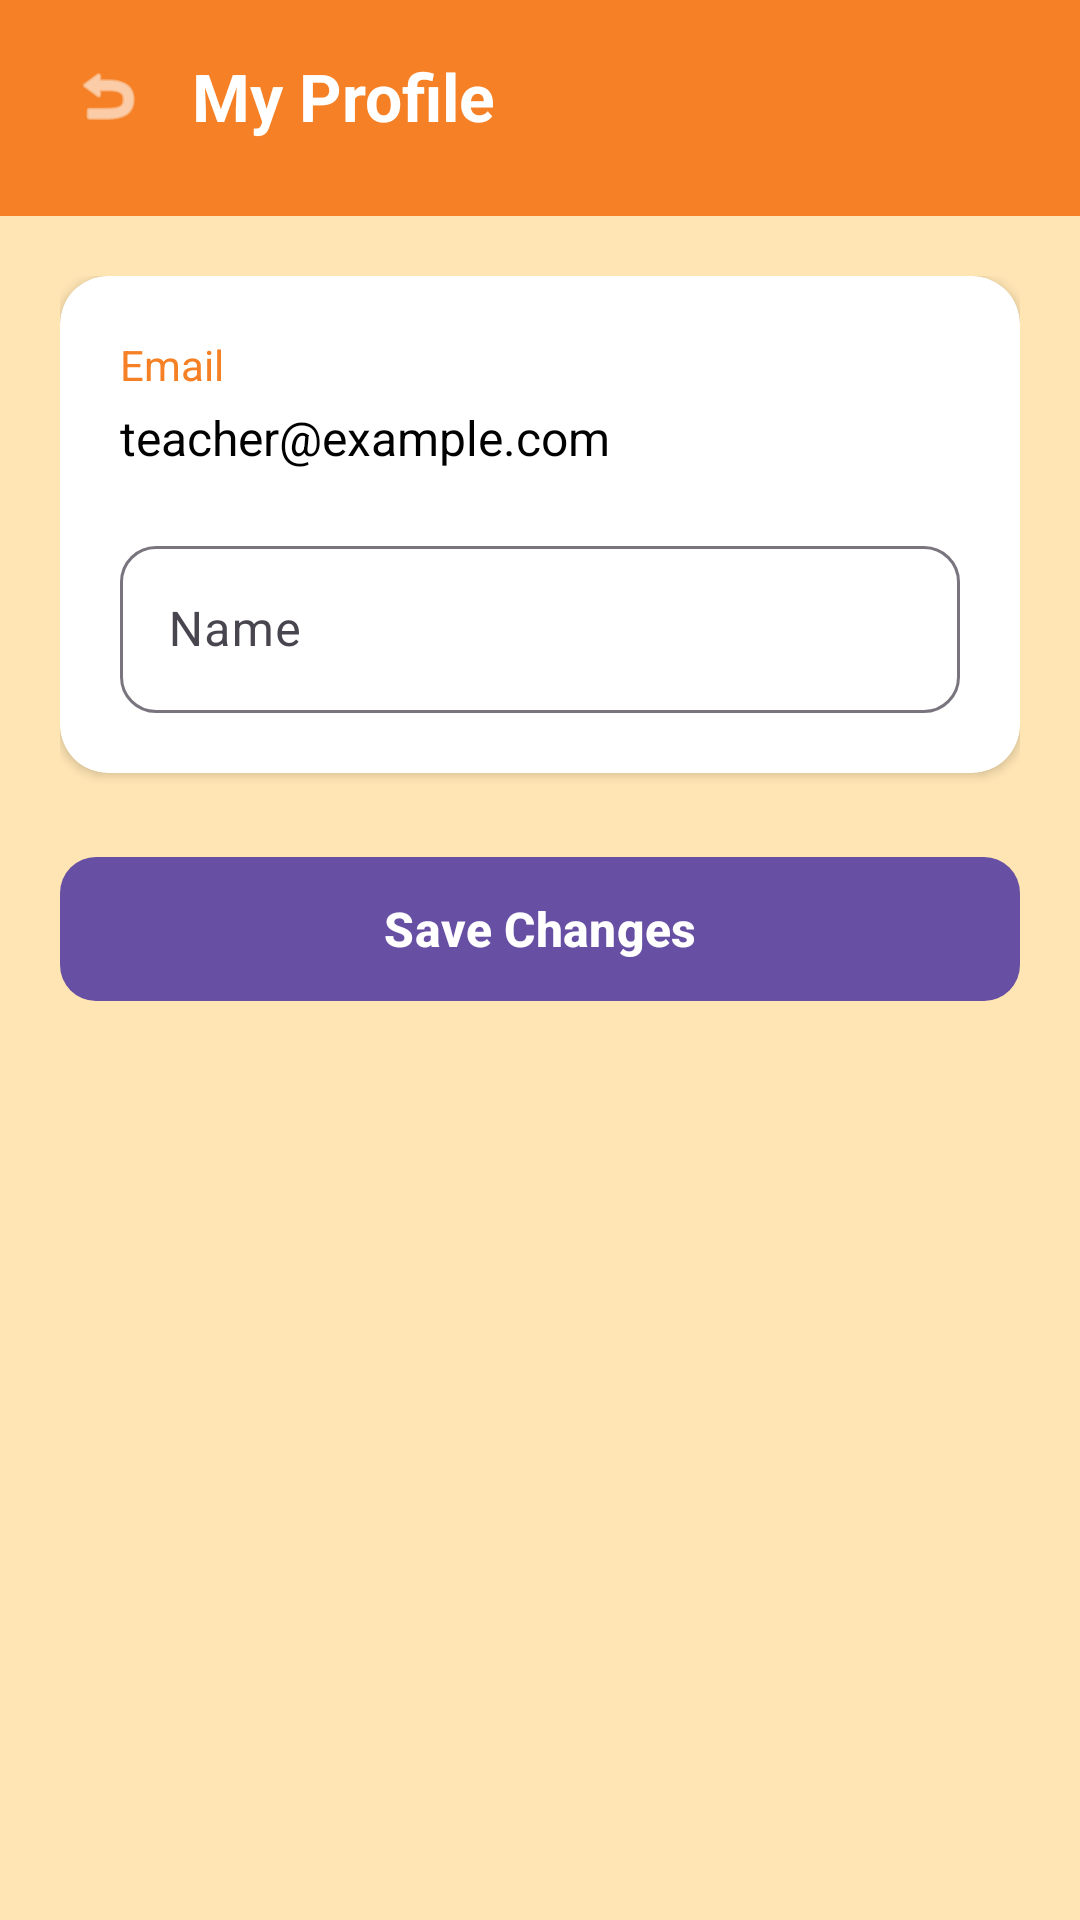

Icons on this 1080px×1920px Android screen, each with the point to tap as (x=x, y=y):
Back: (x=109, y=96)
